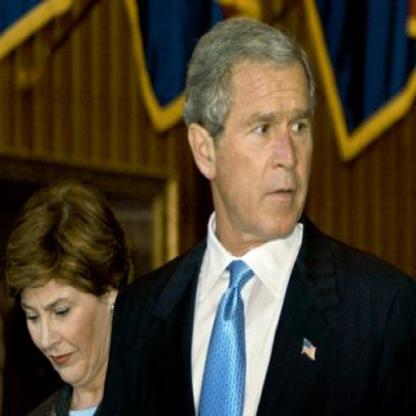face: (213, 28, 320, 244), (20, 211, 108, 387)
